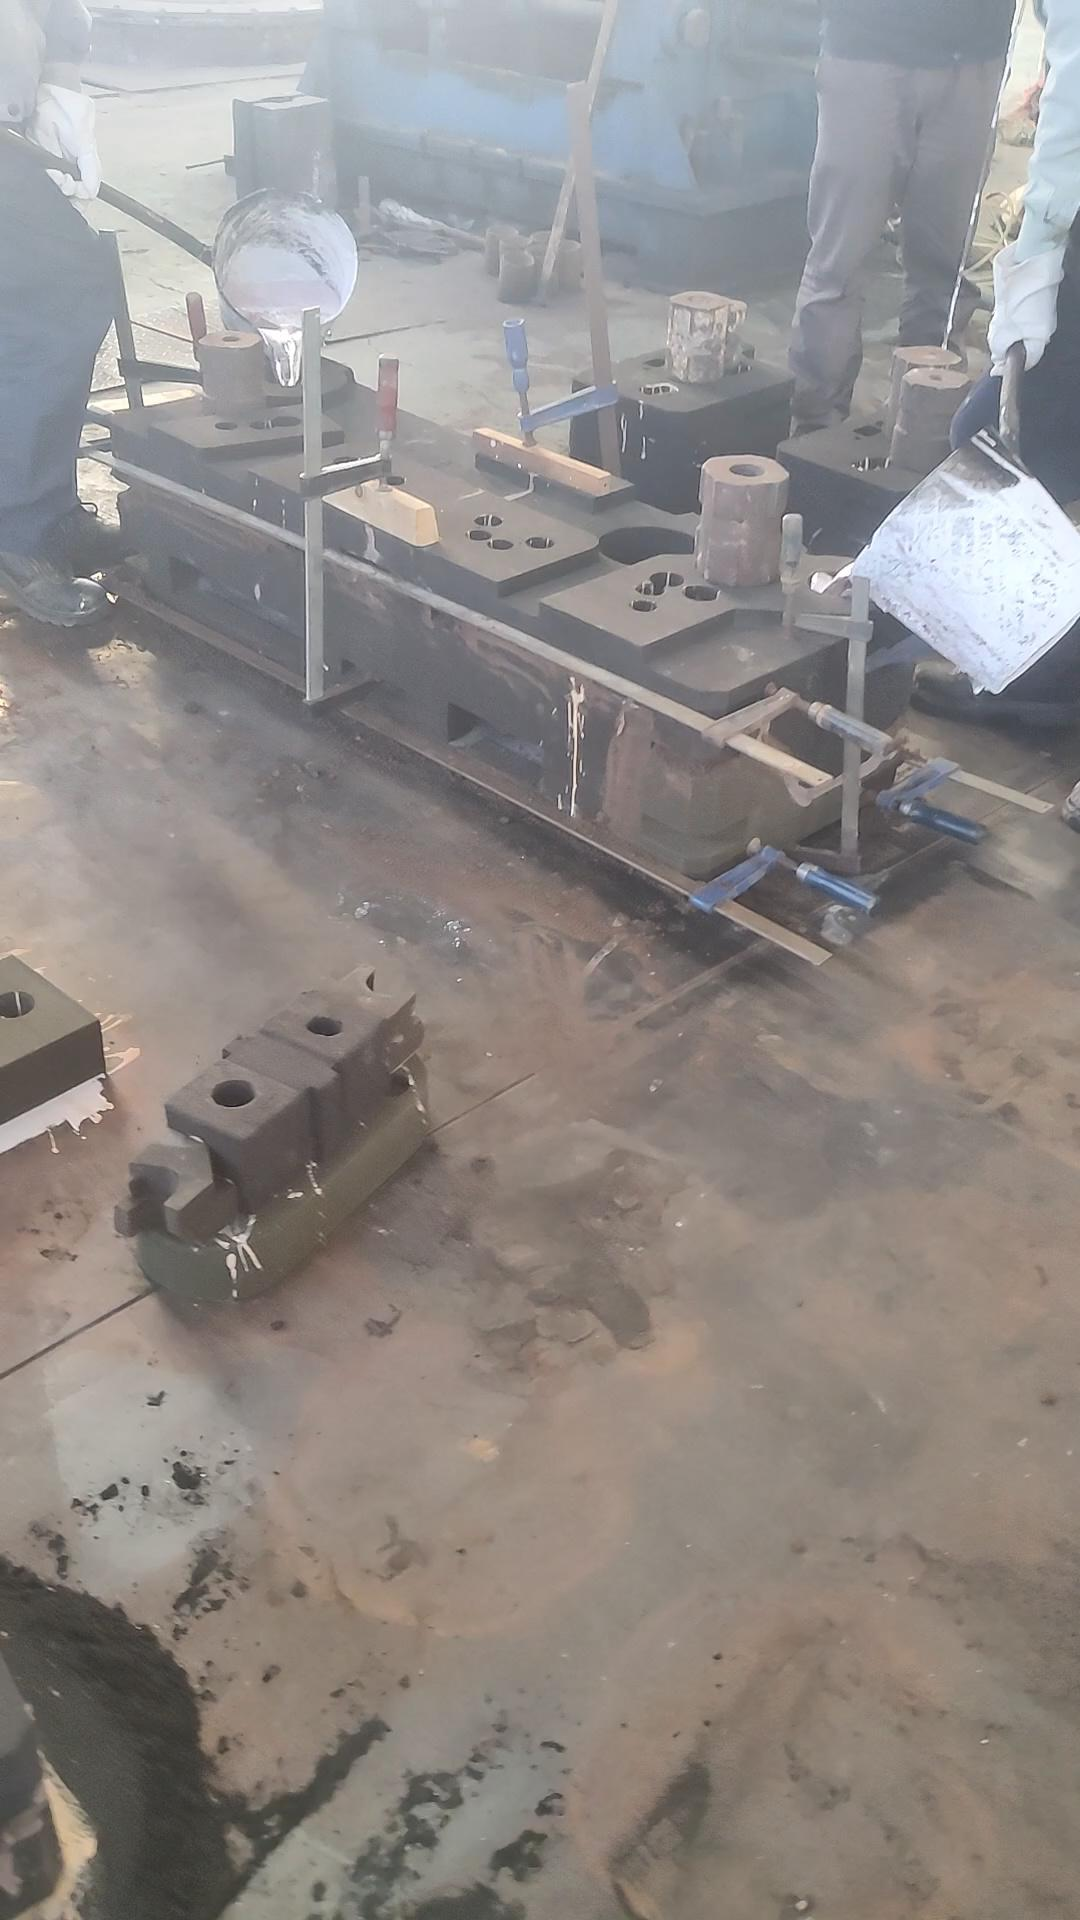pouring hole: (808, 568, 856, 597), (905, 396, 943, 421), (688, 331, 728, 355), (1, 989, 32, 1018), (268, 363, 303, 386), (502, 251, 534, 265), (487, 223, 518, 237), (527, 228, 560, 241), (527, 244, 556, 258), (498, 233, 530, 247), (553, 240, 583, 252)
